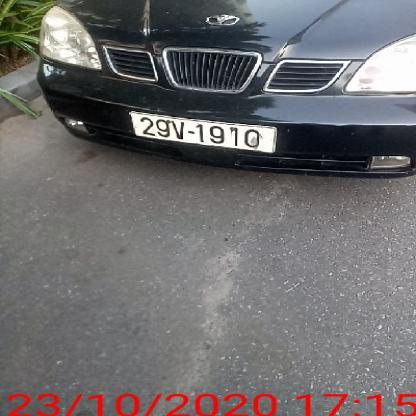biensoxe: (124, 109, 279, 155)
